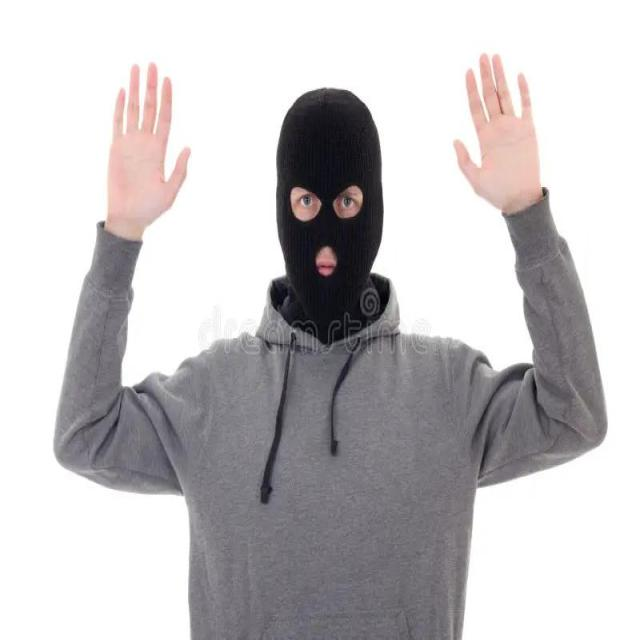6_pasamontana: (276, 88, 384, 324)
